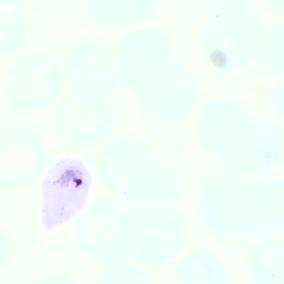Infected: (39, 158, 92, 232)
